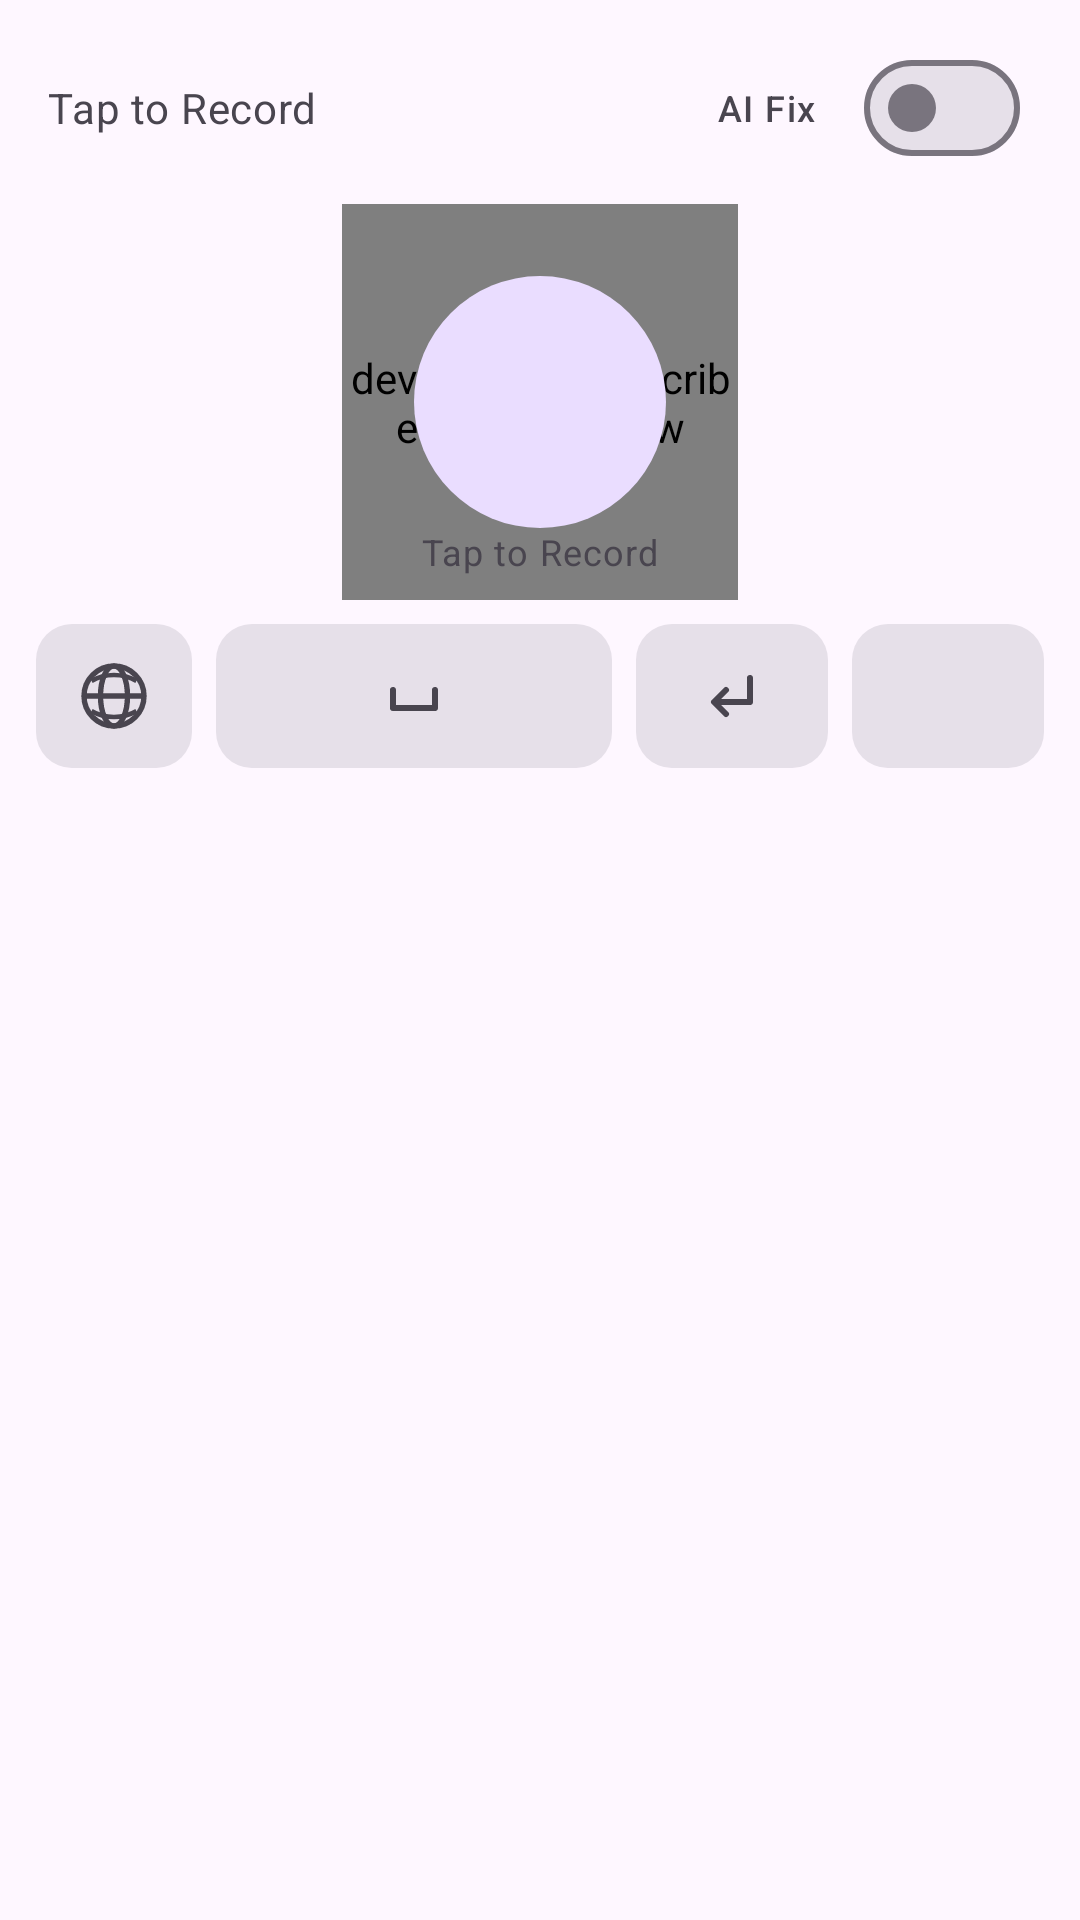

Screen size 1080px×1920px. Icon name, then its box in pixels as rect(x1, y1, x2, y2):
Enter: rect(636, 624, 828, 768)
Switch keyboard: rect(81, 663, 147, 729)
